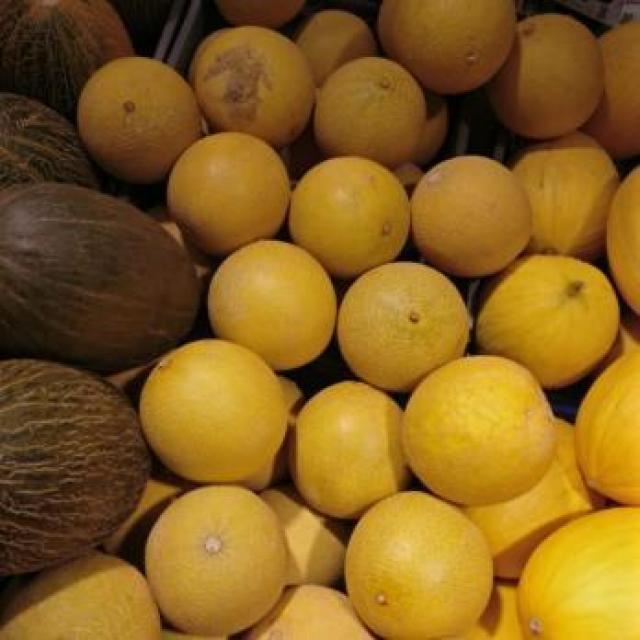Galia: (399, 359, 559, 505), (142, 340, 288, 480), (206, 245, 338, 363), (519, 510, 639, 638), (78, 61, 201, 183), (291, 158, 413, 278), (316, 57, 424, 160)
